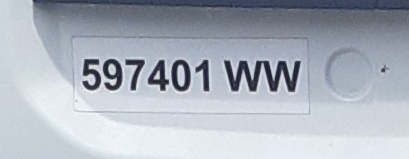0: (171, 53, 195, 95)
1: (195, 52, 216, 97)
4: (147, 54, 171, 96)
5: (80, 54, 101, 95)
7: (124, 55, 148, 93)
9: (102, 54, 124, 95)
w: (263, 54, 307, 96), (221, 57, 262, 97)
